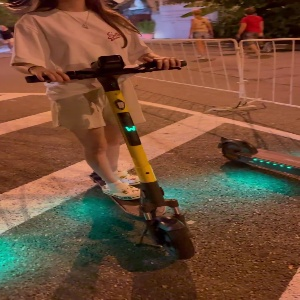human on a scooter: (10, 1, 197, 262)
